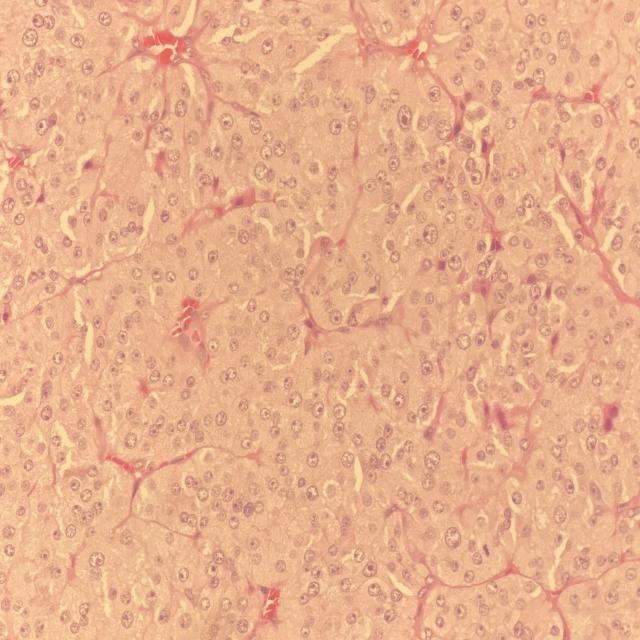TC: (81, 535, 114, 582), (439, 515, 475, 557), (541, 495, 575, 535), (321, 299, 352, 336), (30, 105, 59, 143), (208, 106, 241, 139), (276, 312, 304, 350), (302, 393, 332, 428), (386, 384, 417, 416), (117, 423, 143, 461), (208, 400, 236, 434), (419, 443, 449, 474), (357, 550, 382, 586), (415, 220, 446, 249), (299, 447, 325, 480), (318, 115, 352, 139), (391, 101, 415, 135), (445, 249, 473, 278), (157, 362, 180, 397), (464, 160, 488, 193), (245, 159, 271, 188), (201, 330, 227, 358), (277, 211, 298, 243), (452, 325, 472, 358), (34, 399, 55, 429), (245, 530, 267, 557)
